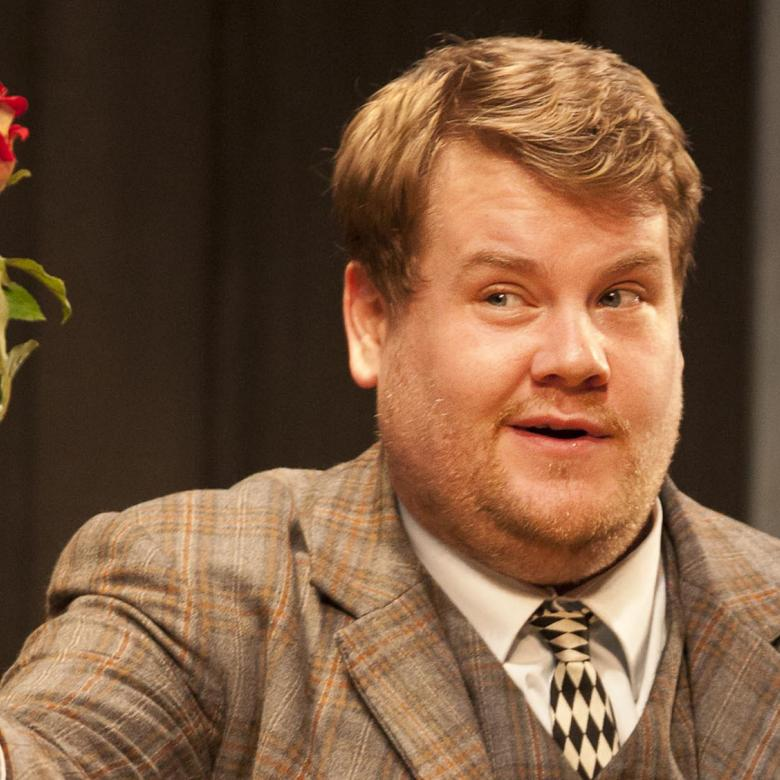Without Helmet: (327, 37, 721, 577)
